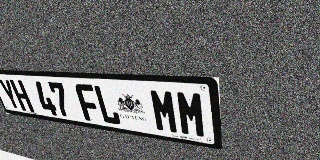4: (32, 81, 59, 116)
7: (47, 82, 74, 118)
F: (74, 84, 103, 123)
H: (9, 80, 35, 112)
L: (92, 85, 122, 126)
M: (175, 90, 207, 139), (149, 88, 180, 134)
Y: (0, 79, 22, 111)
